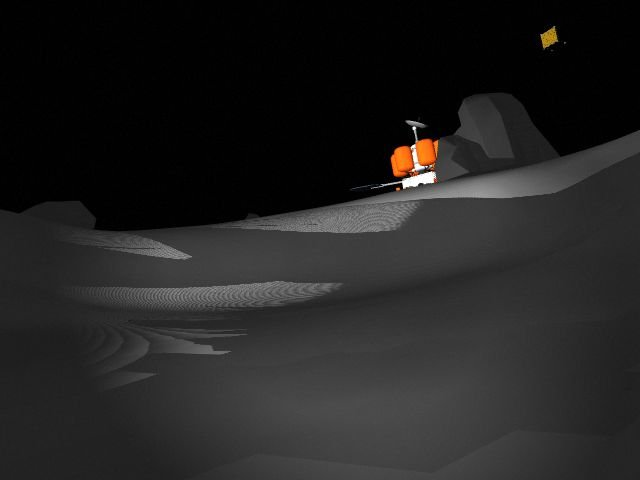cubesat: (537, 22, 576, 54)
